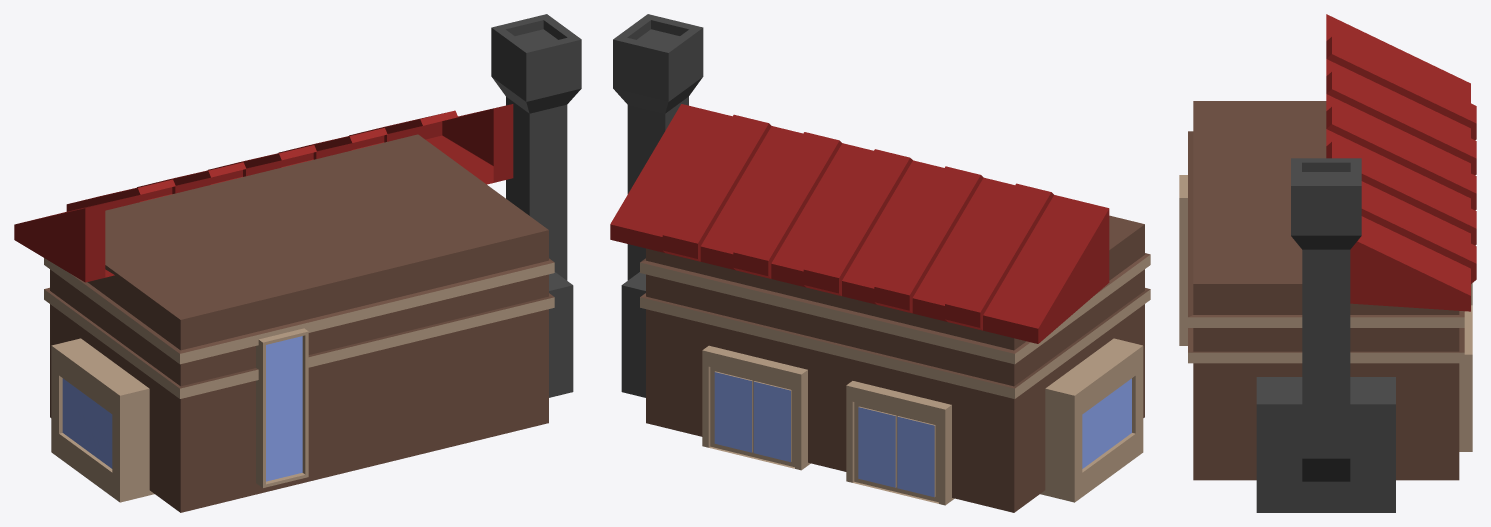
The model's file is Barn2.fbx.
3 renders of one model, left to right at view 1: azimuth 30°, elevation 25°; view 2: azimuth 150°, elevation 25°; view 3: azimuth 270°, elevation 25°, orthographic.
Visible parts, largest first — view 1: Cube; view 2: Cube; view 3: Cube.
Part boxes in pixels (x1,y1,x2,y2): Cube: [14, 14, 581, 512]; Cube: [610, 14, 1150, 512]; Cube: [1179, 14, 1476, 512].
Bounding box in the file's own units: 4327 × 2883 × 2289.
